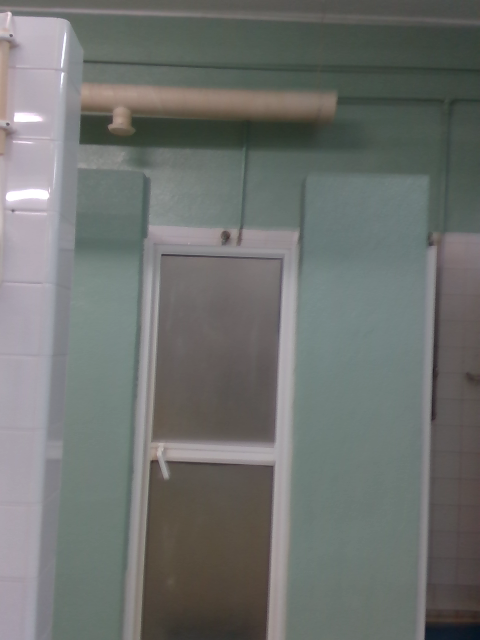closed: (121, 245, 302, 634)
